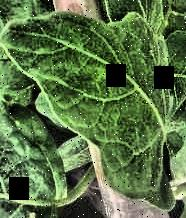HEALTHY: (1, 0, 186, 218)
